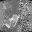people: (10, 14, 19, 27)
